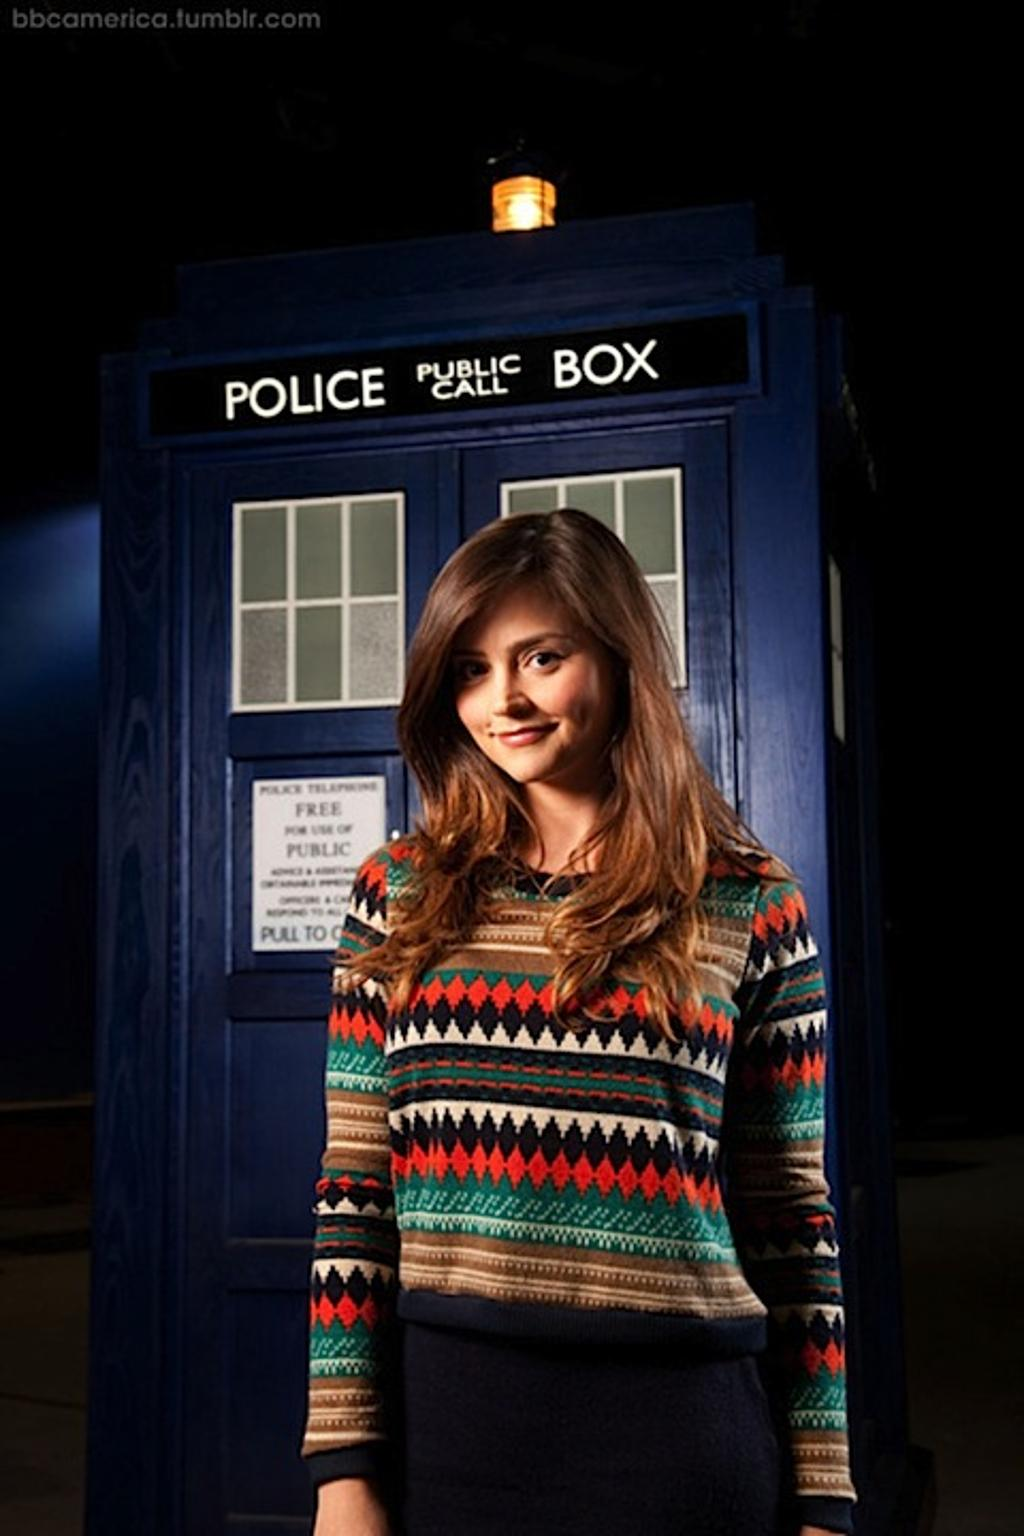face: (447, 580, 618, 775)
